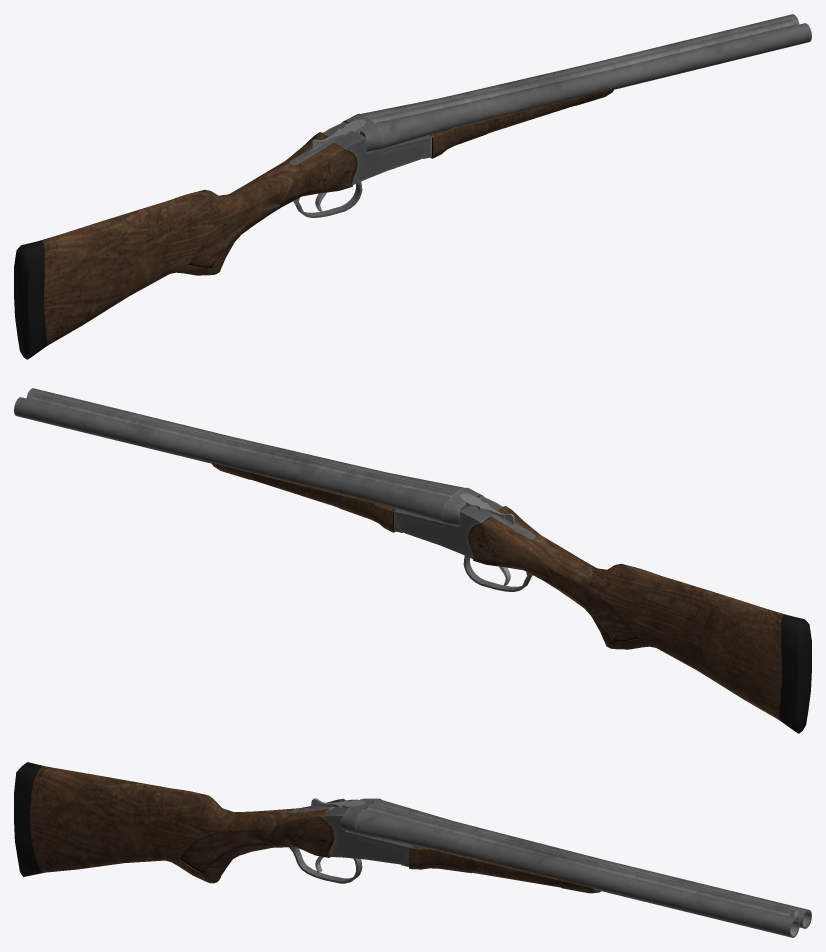
The model's file is sf_olympia.glb.
The picture shows the model from 3 angles, top to bottom: view 1: azimuth 30°, elevation 25°; view 2: azimuth 150°, elevation 25°; view 3: azimuth 330°, elevation 25°; orthographic projection.
Visible parts, largest first — view 1: stock_low_stock_low_0, barrel_low_barrel_low_0, forearm_low_forearm_low_0, chambers_low_chambers_low_0; view 2: stock_low_stock_low_0, barrel_low_barrel_low_0, forearm_low_forearm_low_0, chambers_low_chambers_low_0; view 3: stock_low_stock_low_0, barrel_low_barrel_low_0, forearm_low_forearm_low_0, chambers_low_chambers_low_0, release_low_realese_low_0.
Part boxes in pixels (x1=…): stock_low_stock_low_0: x1=14, y1=122, x2=427, y2=359; barrel_low_barrel_low_0: x1=361, y1=14, x2=811, y2=149; forearm_low_forearm_low_0: x1=379, y1=88, x2=613, y2=158; chambers_low_chambers_low_0: x1=342, y1=113, x2=383, y2=151; stock_low_stock_low_0: x1=398, y1=496, x2=811, y2=733; barrel_low_barrel_low_0: x1=14, y1=388, x2=464, y2=523; forearm_low_forearm_low_0: x1=212, y1=462, x2=446, y2=532; chambers_low_chambers_low_0: x1=442, y1=487, x2=483, y2=525; stock_low_stock_low_0: x1=14, y1=762, x2=405, y2=883; barrel_low_barrel_low_0: x1=355, y1=799, x2=811, y2=937; forearm_low_forearm_low_0: x1=357, y1=834, x2=600, y2=893; chambers_low_chambers_low_0: x1=340, y1=798, x2=381, y2=833; release_low_realese_low_0: x1=311, y1=798, x2=365, y2=808.
Size of the model in its own units: 1.67 by 0.3182 by 0.1046.
6 materials, 6 textured.
